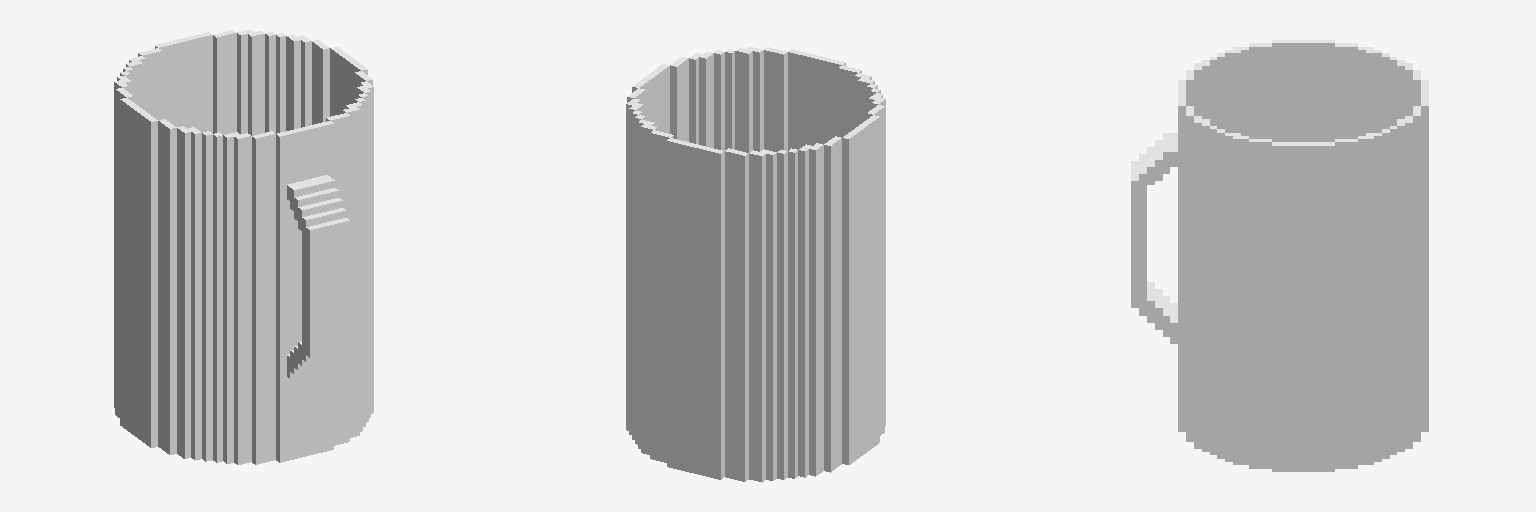
File: Cup3.obj
The picture shows the model from 3 angles: view 1: azimuth 30°, elevation 25°; view 2: azimuth 150°, elevation 25°; view 3: azimuth 270°, elevation 25°; orthographic projection.
Parts seen in each view (by area): view 1: object 1; view 2: object 1; view 3: object 1.
Boxes of the visible parts, box(x1,y1,x2,y2) form: object 1: box(114, 29, 373, 464); object 1: box(626, 47, 885, 482); object 1: box(1131, 40, 1428, 471).
Size of the model in its own units: 3.2 by 4.6 by 3.8.